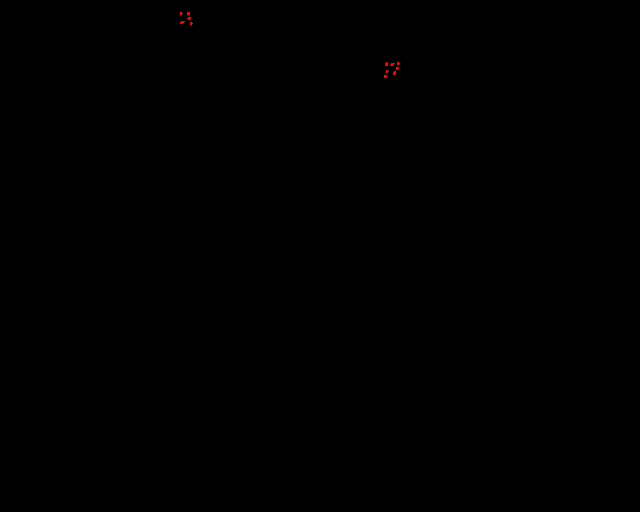Target: (180, 21, 185, 24), (390, 63, 395, 66), (187, 17, 191, 20), (385, 62, 388, 66), (393, 71, 396, 75), (180, 12, 183, 15), (187, 12, 190, 15), (190, 22, 193, 25), (397, 62, 400, 65), (396, 67, 399, 70), (386, 70, 389, 73), (384, 75, 387, 78)
